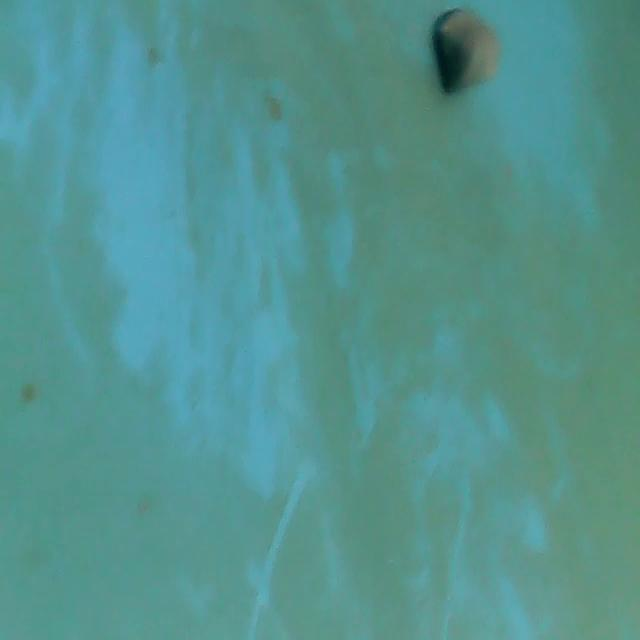rock: (427, 4, 504, 96)
